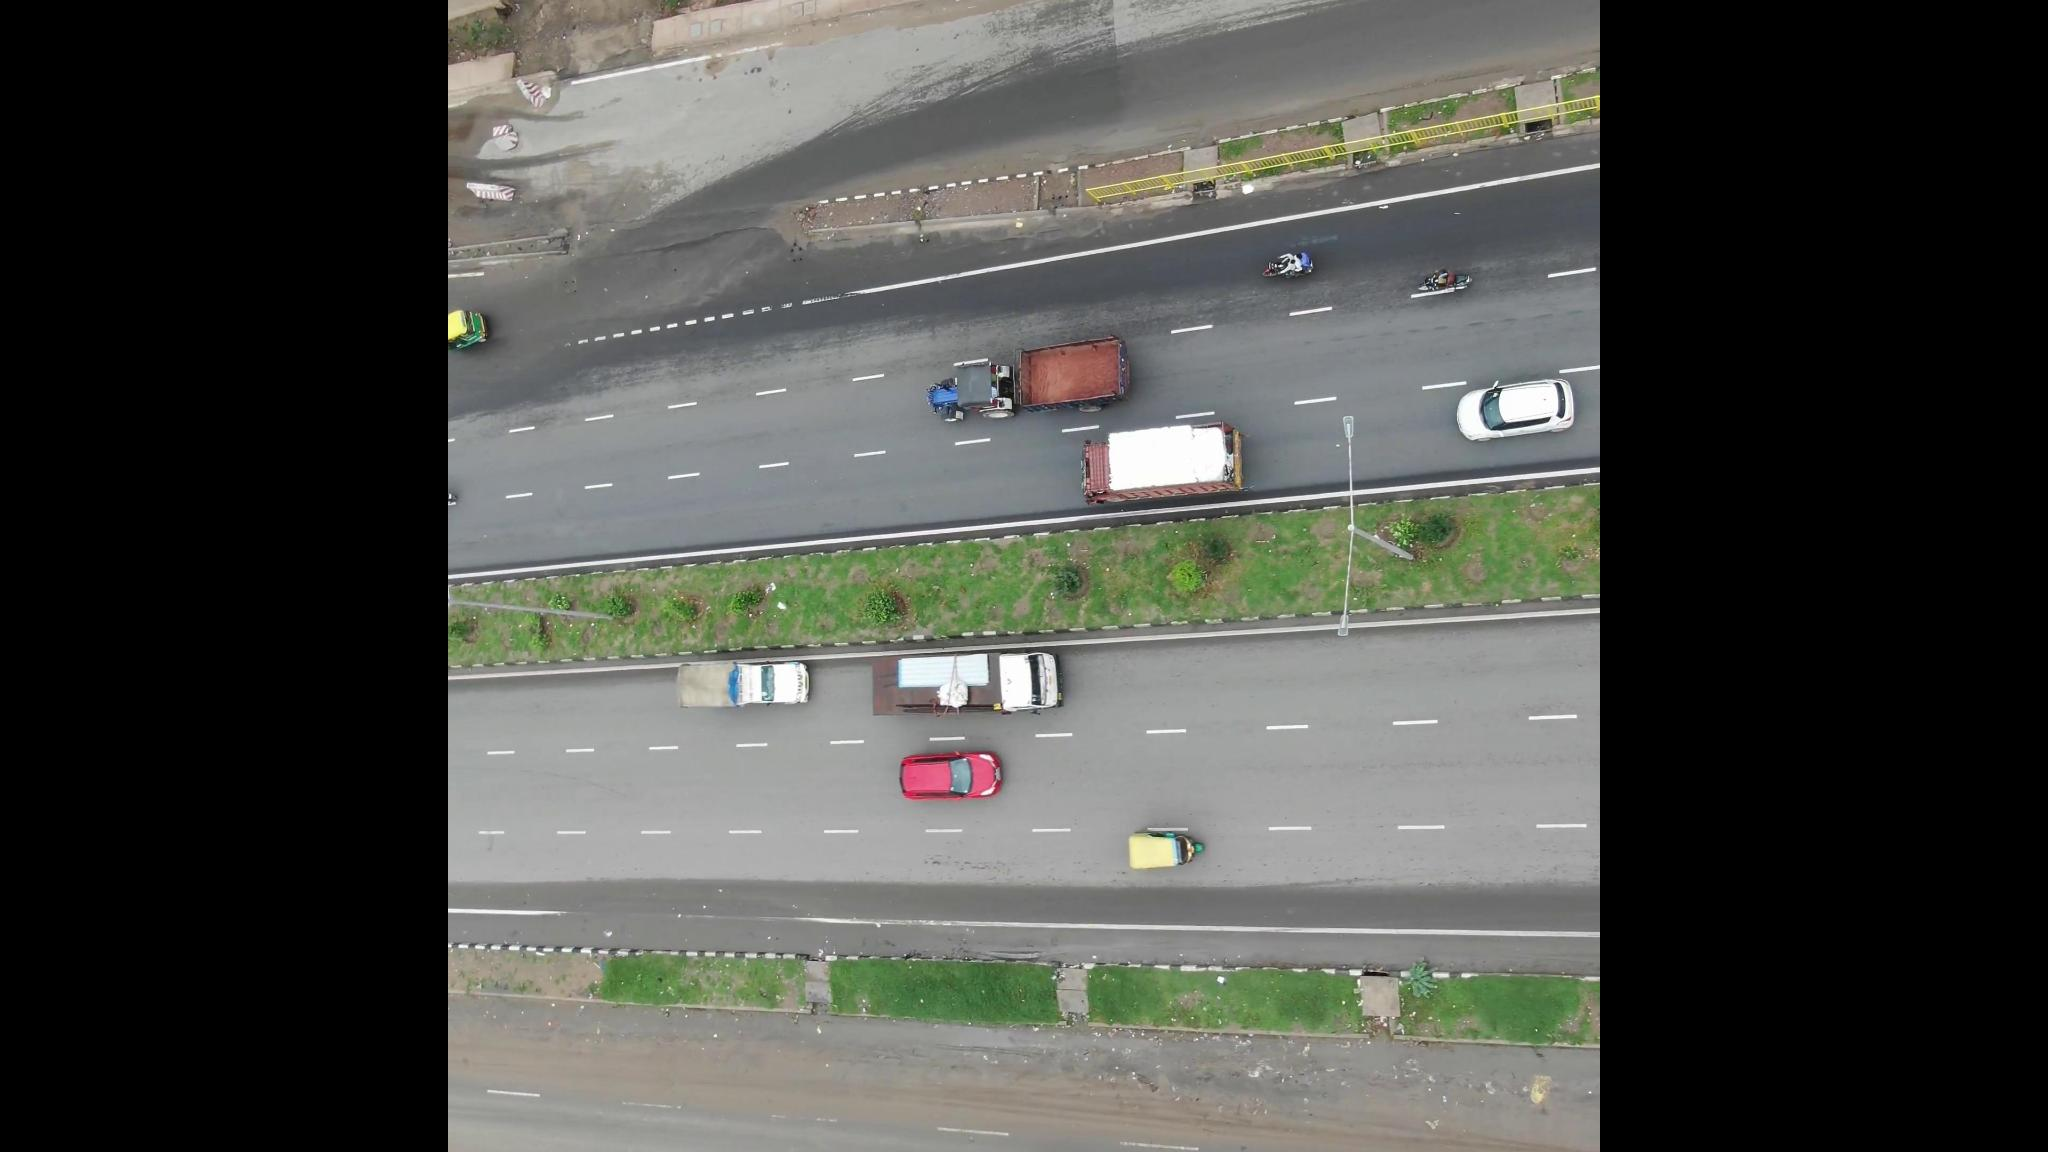Muddy_road: (840, 1007, 1189, 1125), (1229, 1031, 1582, 1137), (482, 1009, 799, 1108)
Waterlogging: (646, 211, 768, 266)
